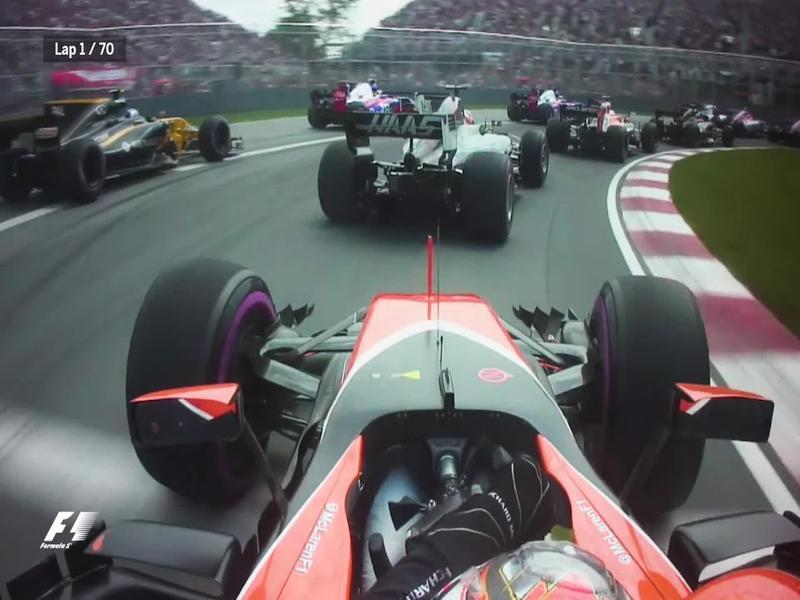racecar: (324, 108, 552, 235), (2, 92, 245, 200), (546, 96, 658, 160), (646, 90, 739, 149)
